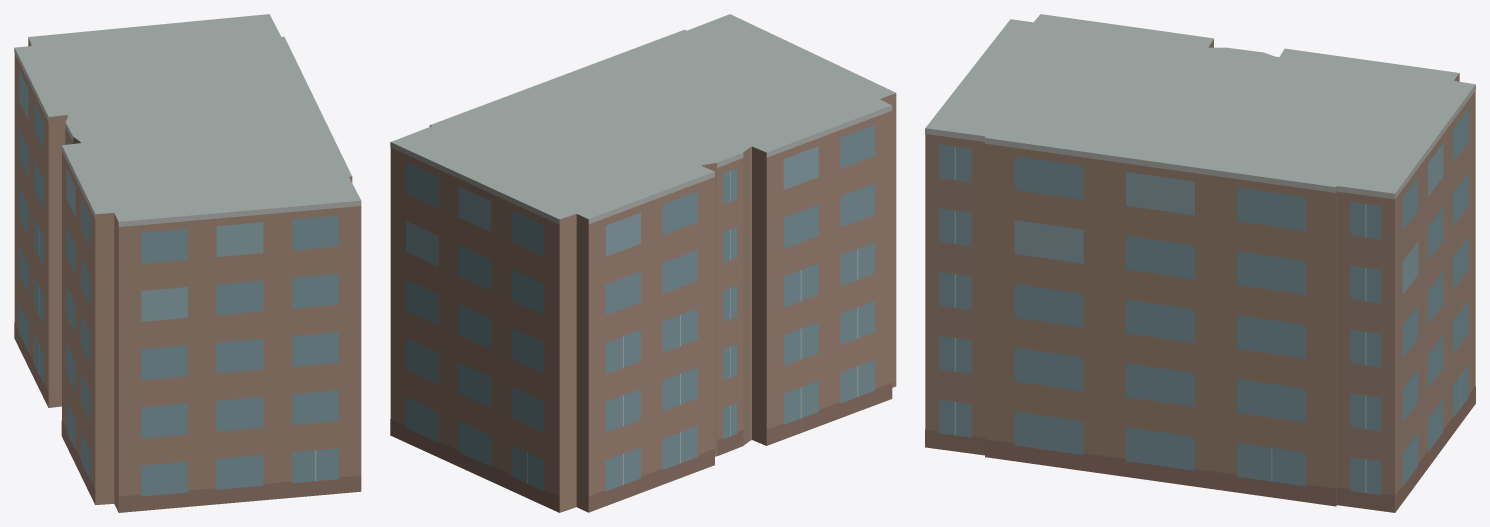
Rendered from survey-upis-32678257.glb.
The picture shows the model from 3 angles, left to right: view 1: azimuth 30°, elevation 25°; view 2: azimuth 150°, elevation 25°; view 3: azimuth 270°, elevation 25°; orthographic projection. The views are drawn at different scales.
Visible parts, largest first — view 1: survey-upis-32678257.tmp; view 2: survey-upis-32678257.tmp; view 3: survey-upis-32678257.tmp.
Boxes of the visible parts, x1,y1,x2,y2 form: survey-upis-32678257.tmp: (14,14,361,512); survey-upis-32678257.tmp: (390,14,896,512); survey-upis-32678257.tmp: (925,14,1475,512).
Bounding box in the file's own units: 16.43 × 13.6 × 21.28.
